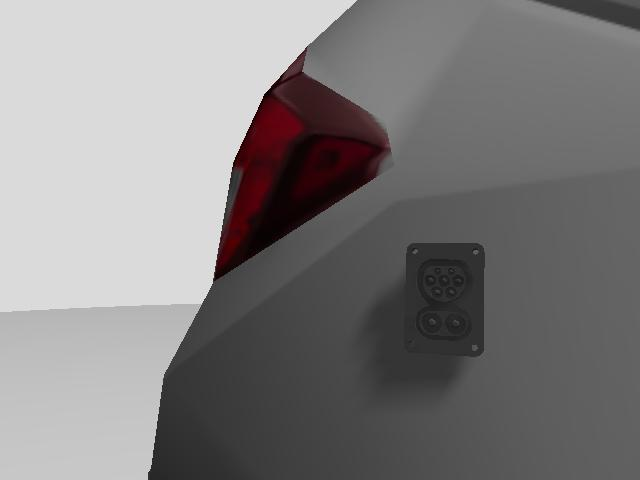EV-socket: (404, 240, 487, 359)
